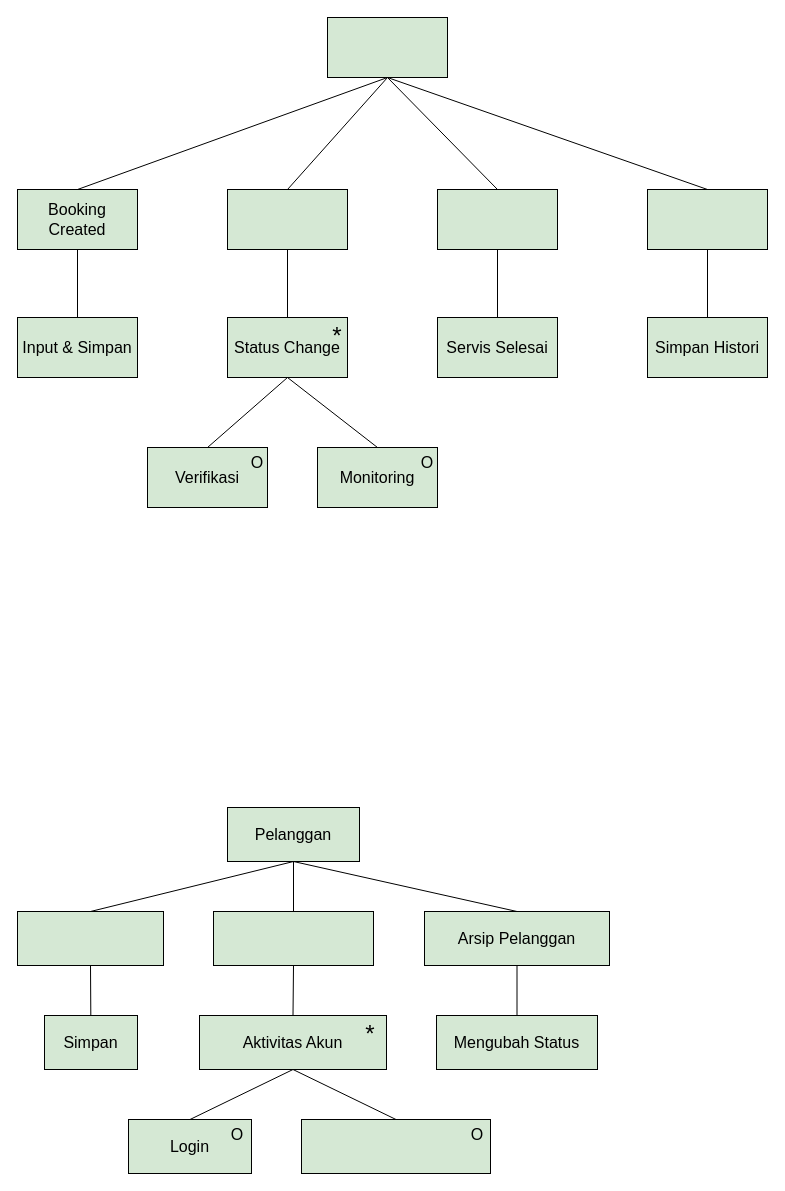
This 785x1191 diagram has some shape labels left out. Here are the shapes that lost their labels. From the top down, the box of each, then its label:
(326, 16, 448, 78): Booking Service
(226, 188, 348, 250): Booking Life
(436, 188, 558, 250): Booking Finish
(646, 188, 768, 250): Booking Archive
(16, 910, 164, 966): Pendaftaran
(212, 910, 374, 966): Kehidupan Pelanggan
(300, 1118, 490, 1174): Mengubah Profil
